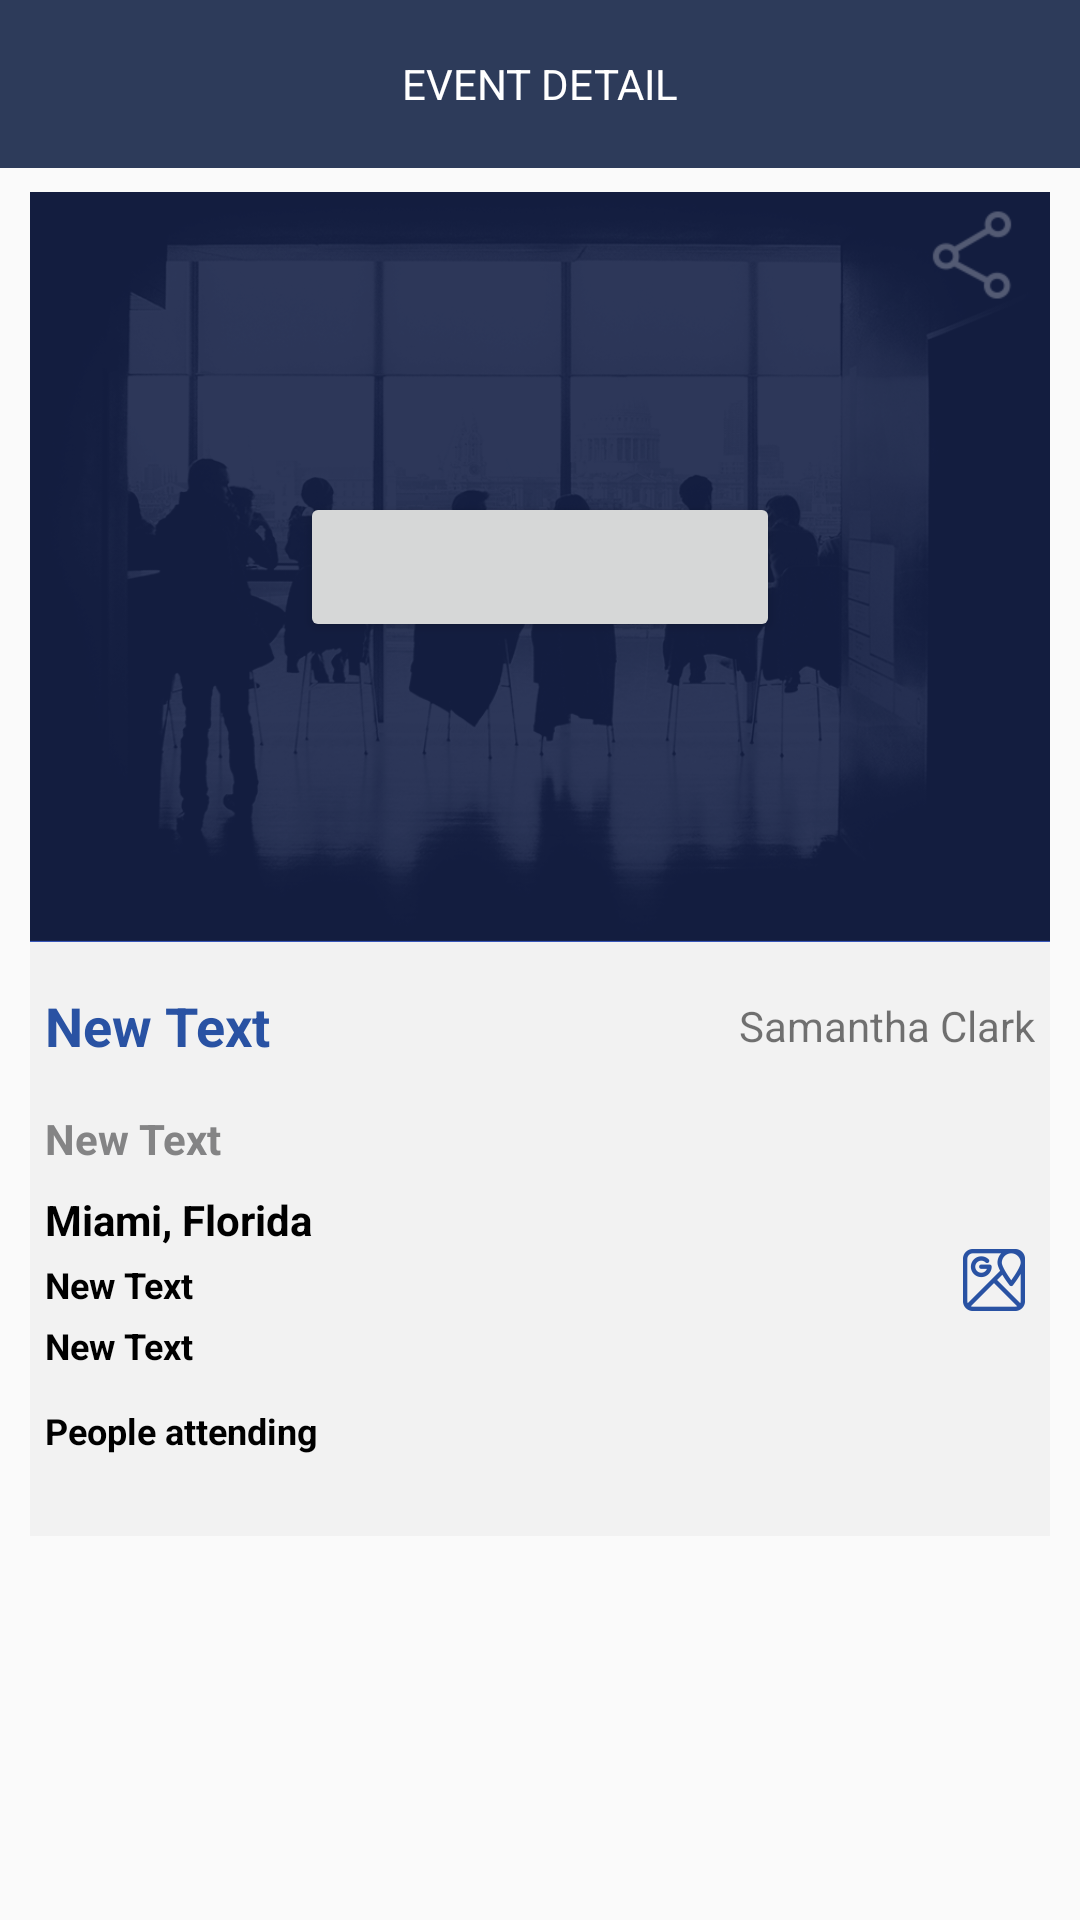

Icons on this 1080×1920 Android screen, each with the point to tap as [x,y]:
share: [972,255]
